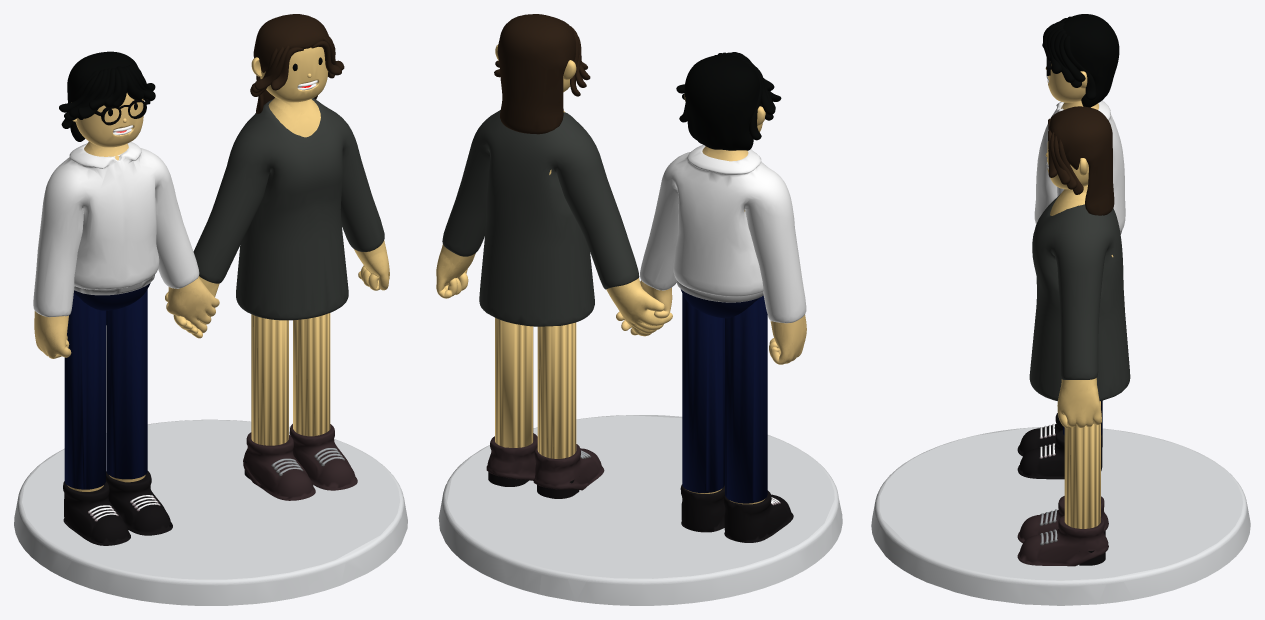
3 renders of one model, left to right at view 1: azimuth 30°, elevation 25°; view 2: azimuth 150°, elevation 25°; view 3: azimuth 270°, elevation 25°, orthographic. The views are drawn at different scales.
Parts seen in each view (by area): view 1: BADAN.002, Circle, BADAN.005; view 2: BADAN.002, Circle, BADAN.005; view 3: Circle, BADAN.002, BADAN.005.
Part boxes in pixels (bbox=[...]): BADAN.002: bbox=[33, 14, 389, 545]; Circle: bbox=[14, 419, 407, 605]; BADAN.005: bbox=[59, 51, 155, 141]; BADAN.002: bbox=[436, 14, 806, 542]; Circle: bbox=[438, 415, 842, 605]; BADAN.005: bbox=[676, 52, 781, 150]; Circle: bbox=[871, 427, 1250, 605]; BADAN.002: bbox=[1017, 58, 1130, 566]; BADAN.005: bbox=[1042, 14, 1119, 107].
Bounding box in the file's own units: 1.42 × 1.83 × 1.36.
Materials: 2 (2 with a texture image).
